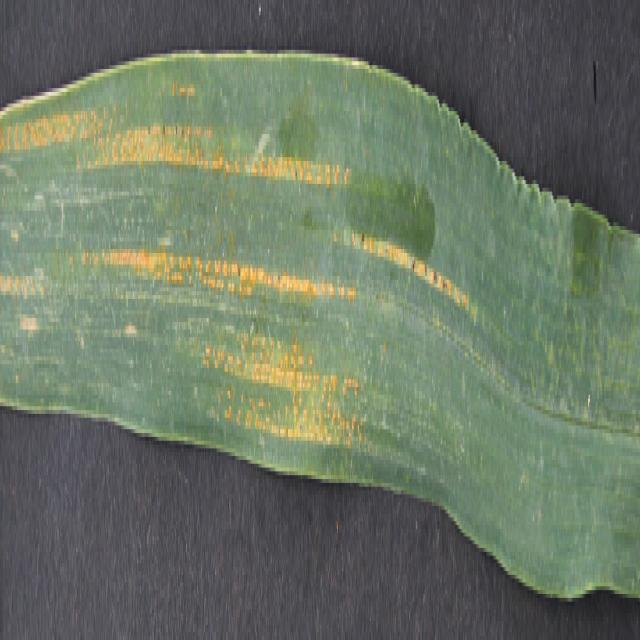leaf rust: (1, 100, 478, 440)
